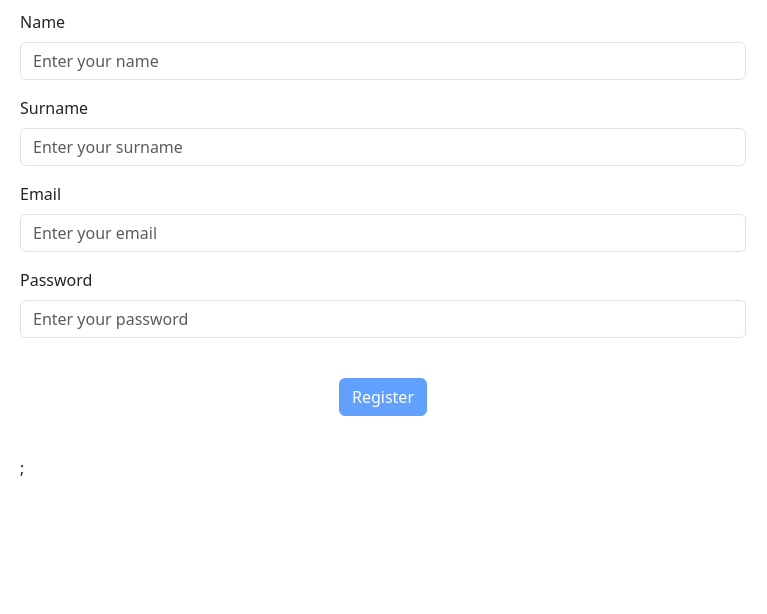
Test: template spec › should show error messages
Step 1. Type "Ta" into the field with id "name" → coordinates (383, 61), box [20, 42, 746, 80]
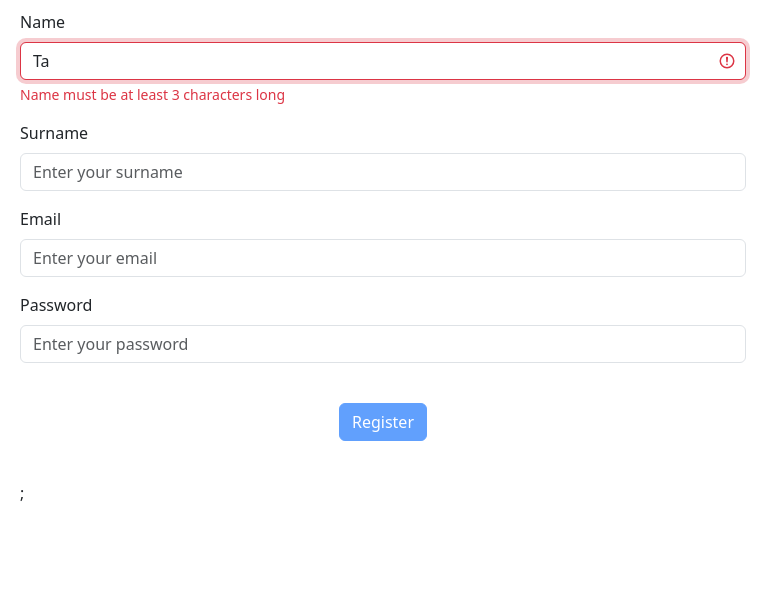
Step 2. Type "ko" into the field with id "surname" → coordinates (383, 172), box [20, 153, 746, 191]
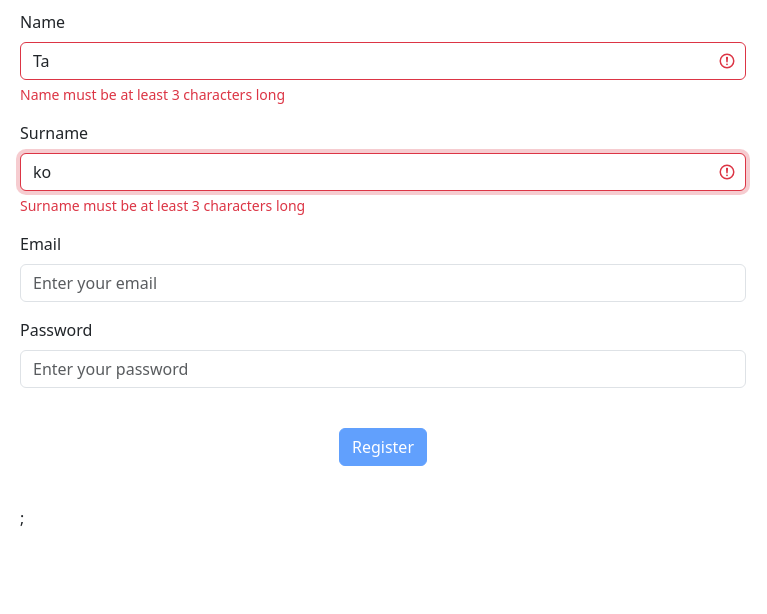
Step 3. Type "taylan123" into the password field labelled "Password" → coordinates (383, 369), box [20, 350, 746, 388]
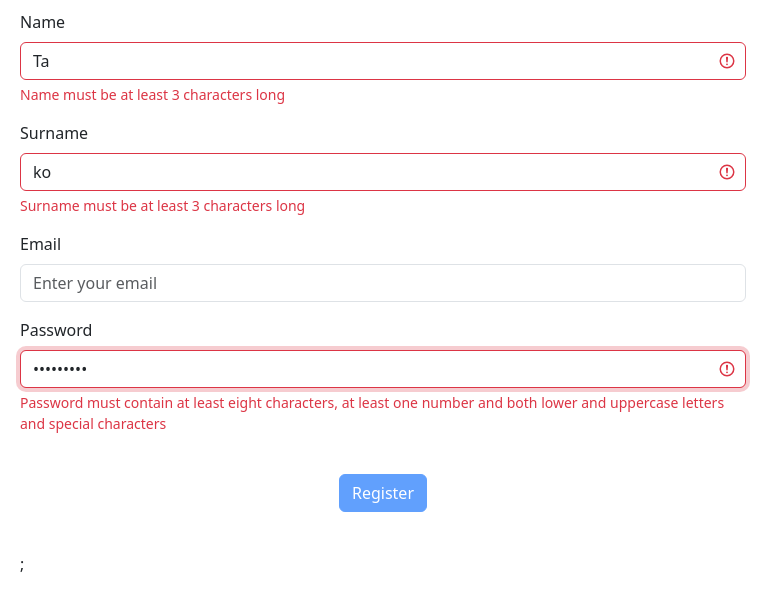
Step 4. Type "taylan@gmail" into the field with id "email" → coordinates (383, 283), box [20, 264, 746, 302]
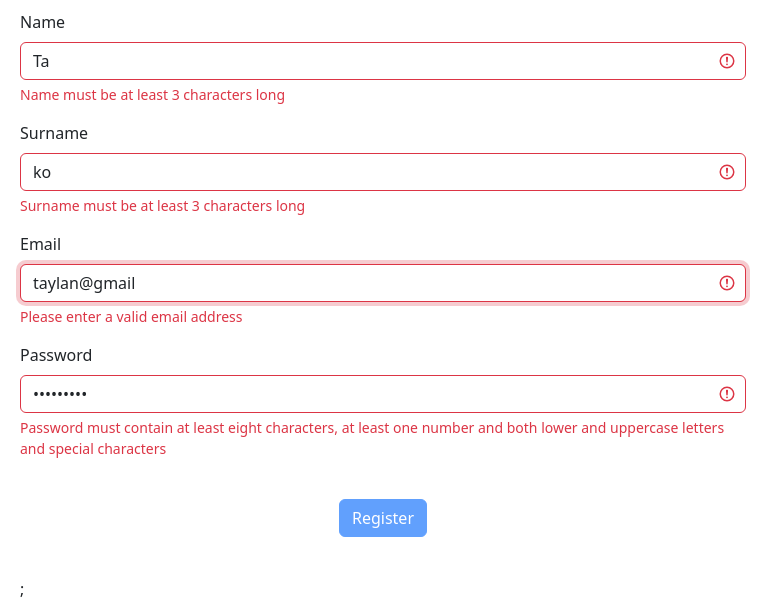
Expected: the text "Name must be at least 3 characters long" is shown, [20, 85, 285, 104]
Expected: the text "Surname must be at least 3 characters long" is shown, [20, 196, 305, 215]
Expected: the text "Please enter a valid email address" is shown, [20, 307, 242, 326]
